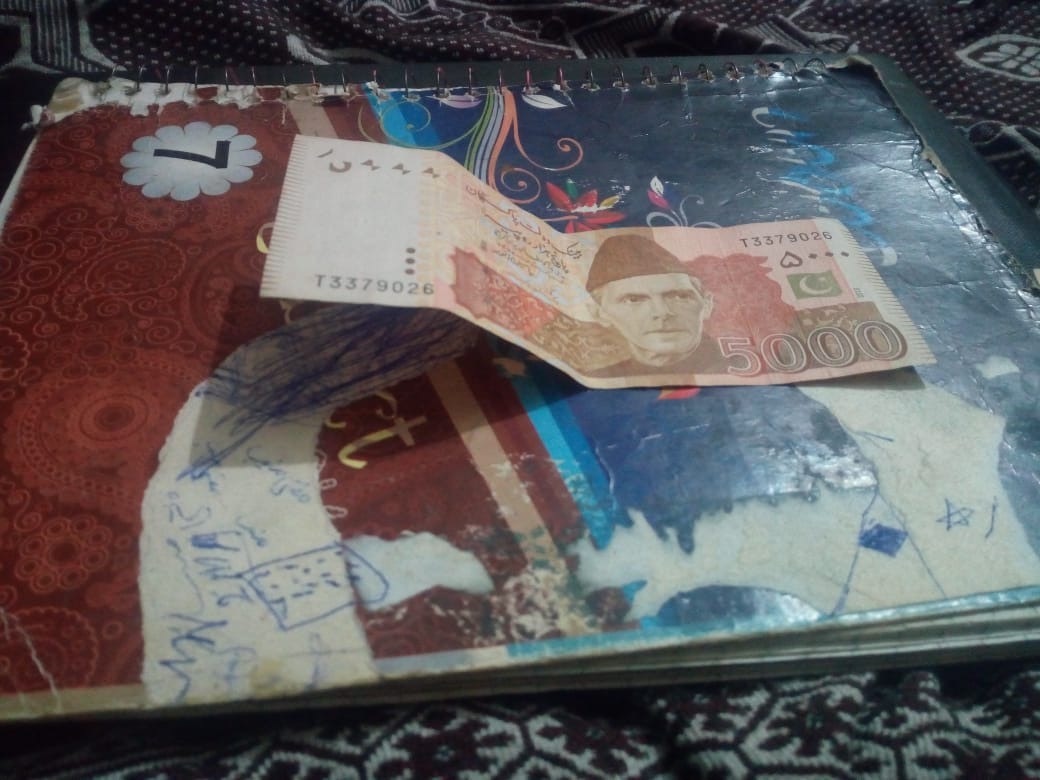5000 rupee: (261, 115, 940, 388)
